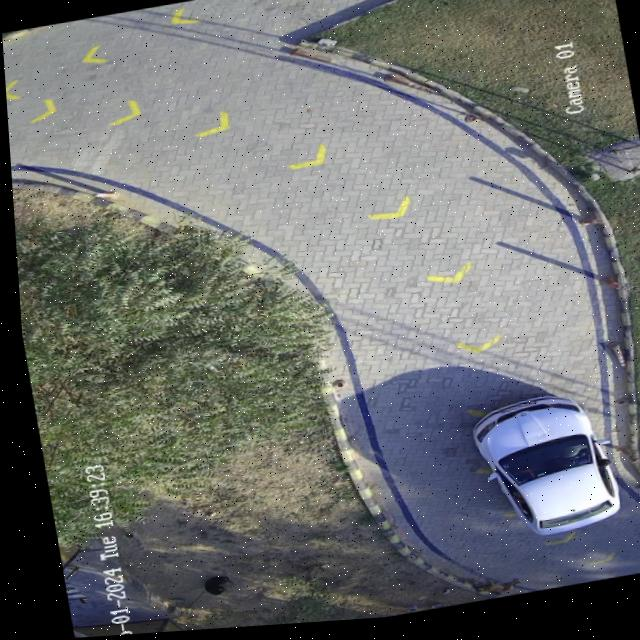car: (463, 402, 613, 542)
